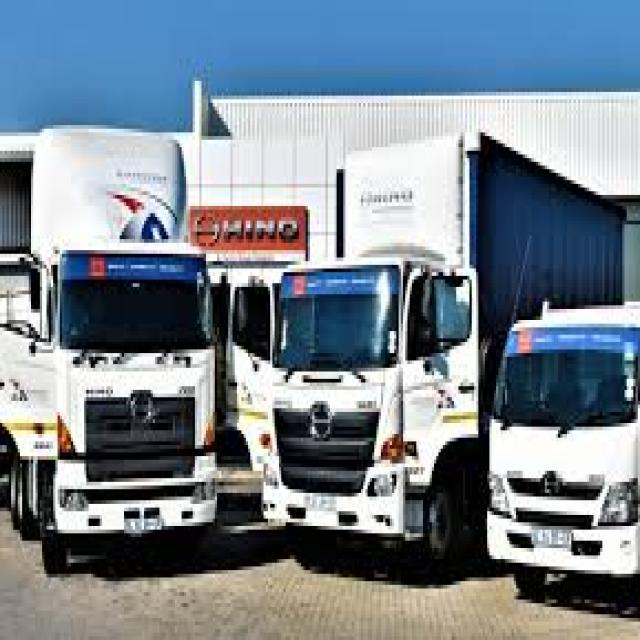Heavy Duty Truck: (38, 239, 228, 585), (259, 250, 441, 567), (483, 298, 638, 599)
